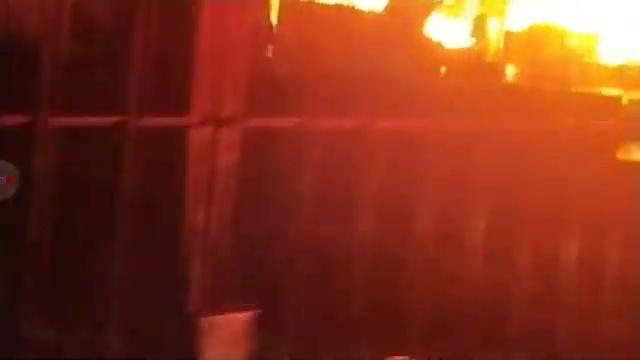fire: (549, 2, 635, 35), (427, 14, 479, 46)
